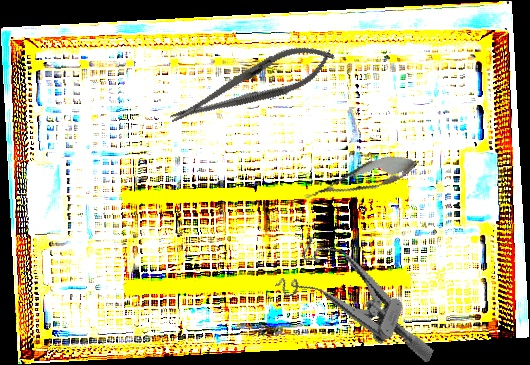Micro Scissor: (299, 146, 424, 212)
Needle Holder: (162, 32, 341, 139)
Speculum: (269, 230, 456, 364)
